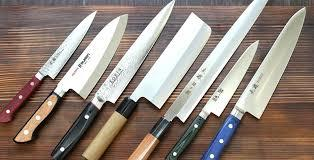Knife: (80, 11, 211, 159), (199, 6, 306, 159), (12, 13, 128, 143), (163, 39, 260, 159)
